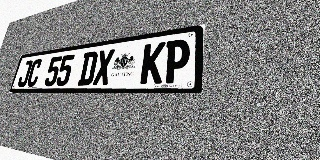5: (55, 54, 75, 86), (44, 56, 62, 86)
C: (26, 58, 43, 87)
D: (77, 51, 99, 86)
J: (17, 60, 33, 87)
K: (140, 41, 166, 84)
P: (162, 38, 191, 83)
X: (92, 49, 115, 85)
